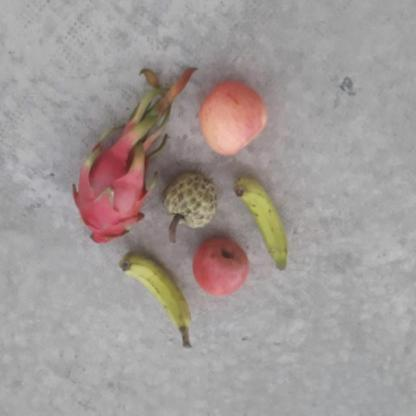annona: (162, 171, 219, 231)
apple: (188, 80, 269, 162), (193, 232, 250, 306)
banana: (226, 160, 296, 274), (117, 247, 194, 340)
pitaya: (67, 140, 166, 246)
